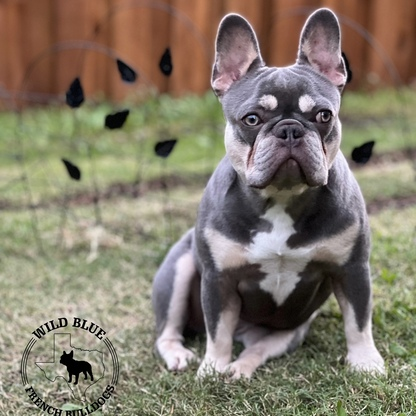bulldog: (151, 8, 387, 384)
